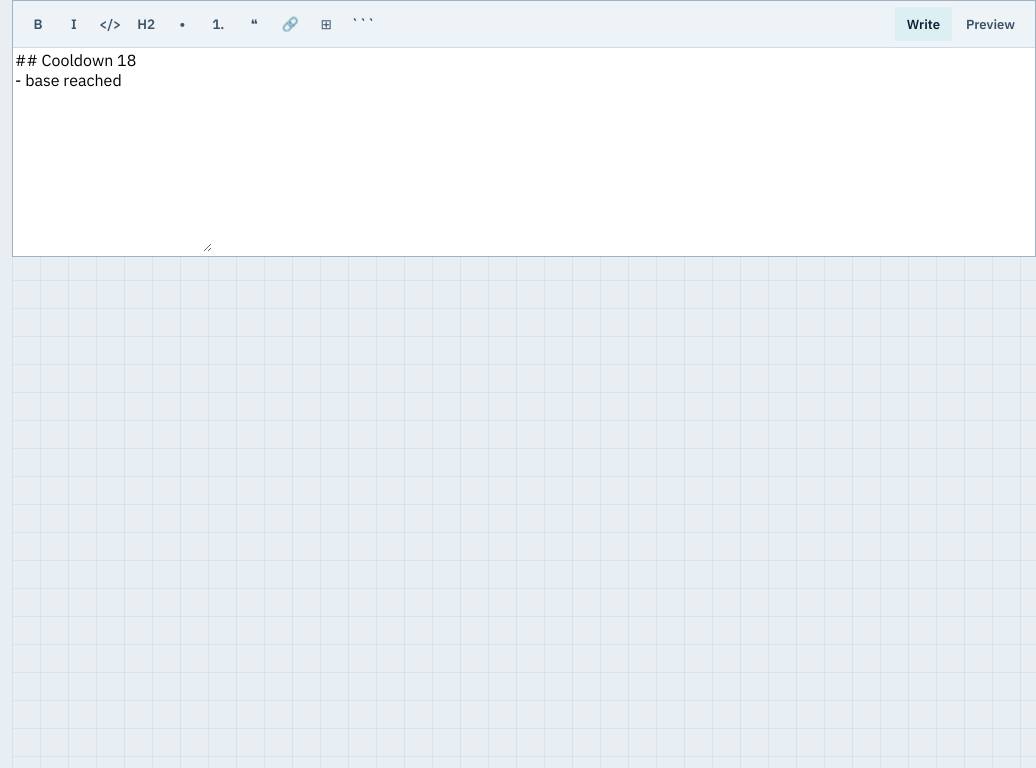
Test: MarkdownEditor › renders the note as markdown in preview mode
Click the button "Preview" at point(990, 24), box 954,7 -> 1027,41
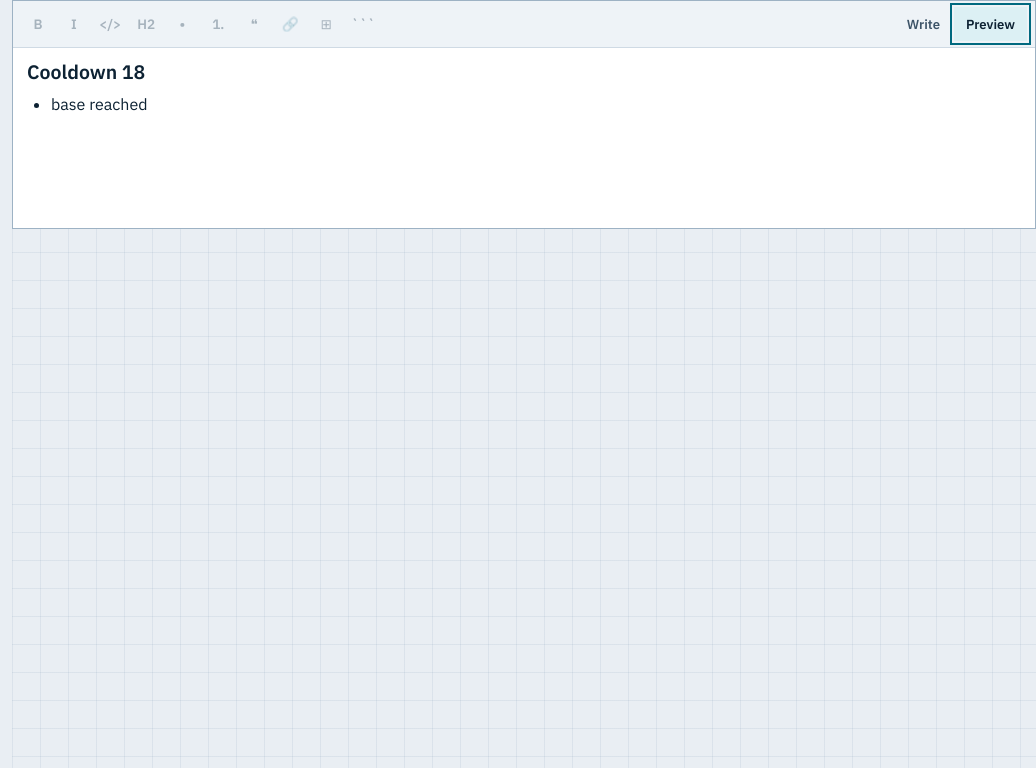
Now the heading "Cooldown 18" is shown, box 27,59 -> 145,84
Now the list item reads "base reached", box 51,94 -> 148,114
Click the button "Write" at point(923, 24), box 895,7 -> 952,41
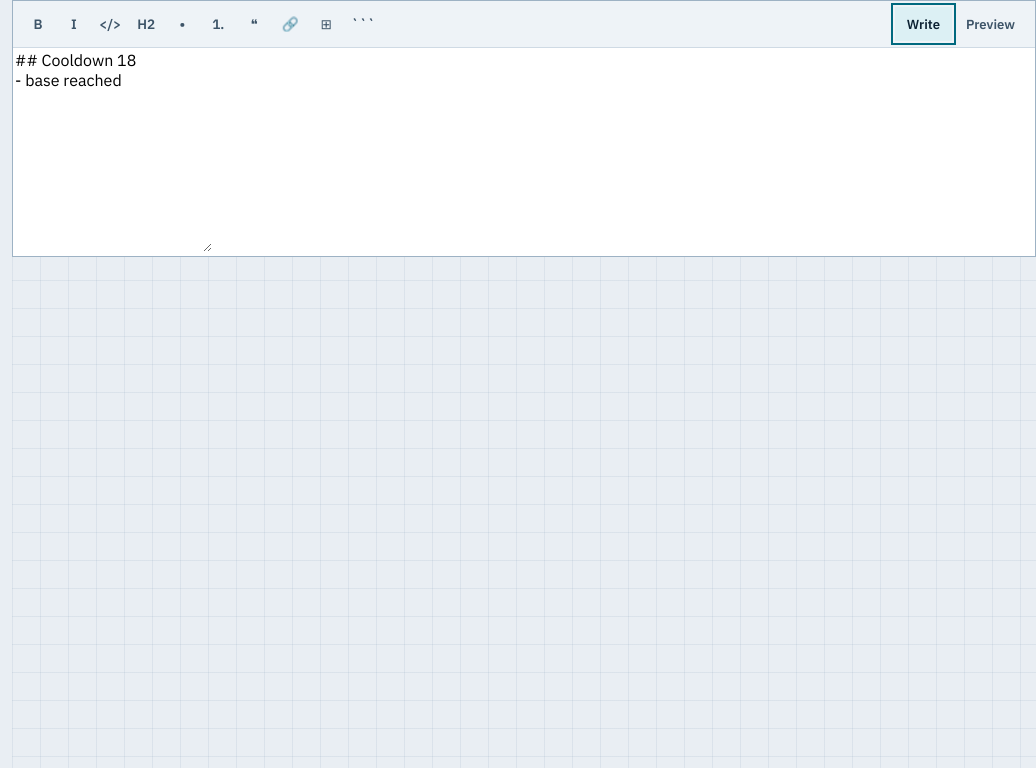
Now the text box is shown, box 13,48 -> 212,252
